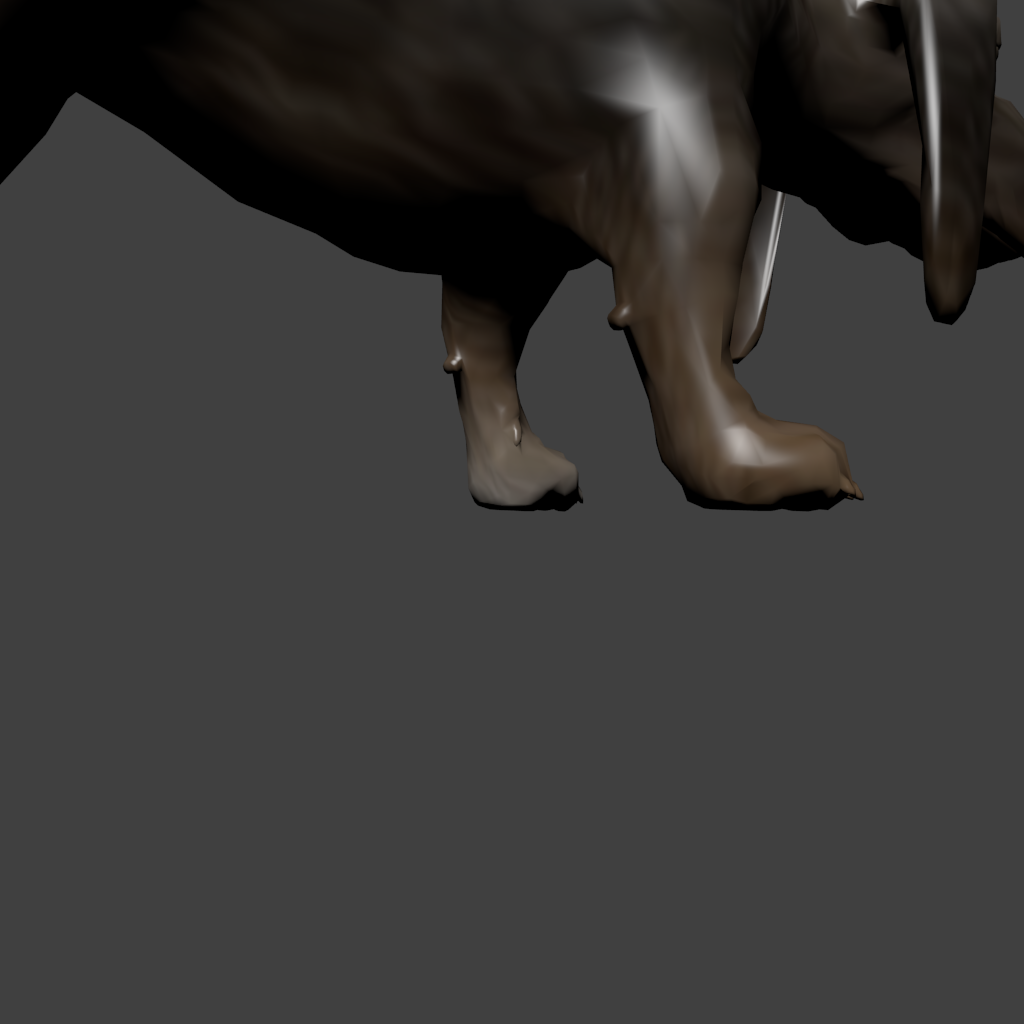Dog: (0, 0, 1024, 1024), (0, 0, 1024, 512), (0, 509, 1024, 515)
